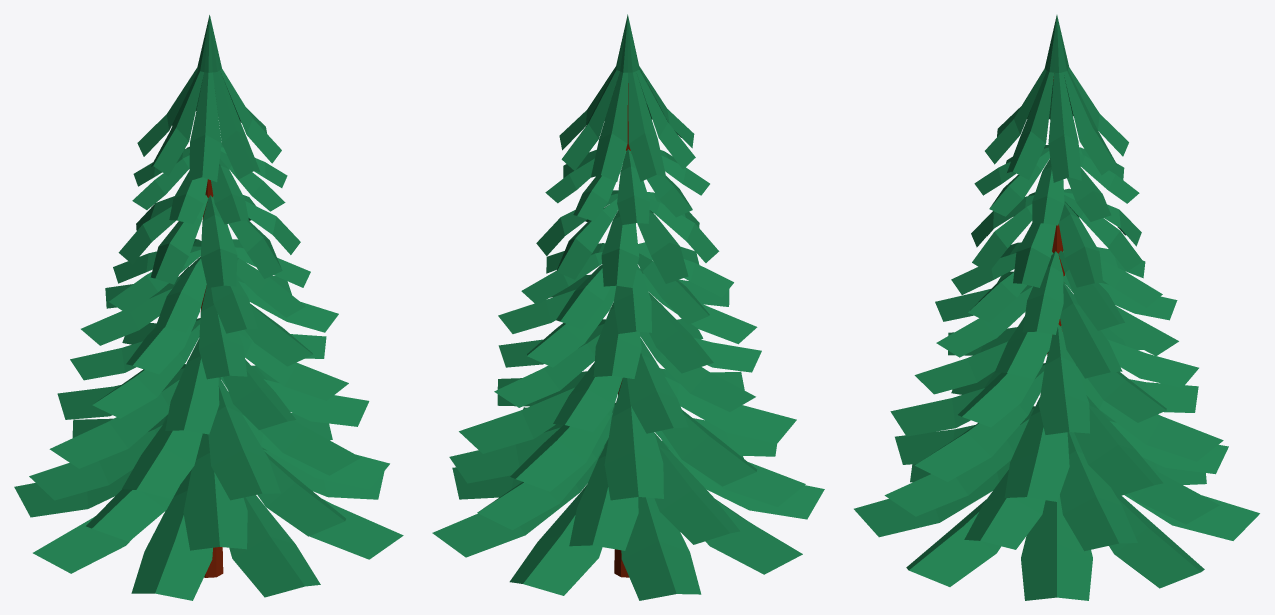
The model's file is Fir_tree_Folhas_Verde_Escuro.fbx.
3 renders of one model, left to right at view 1: azimuth 30°, elevation 25°; view 2: azimuth 150°, elevation 25°; view 3: azimuth 270°, elevation 25°, orthographic.
Parts seen in each view (by area): view 1: Fir_tree_Folhas_Verde_Escuro; view 2: Fir_tree_Folhas_Verde_Escuro; view 3: Fir_tree_Folhas_Verde_Escuro.
Part boxes in pixels (box(x1,y1,x2,y2)): Fir_tree_Folhas_Verde_Escuro: box(14, 15, 403, 600); Fir_tree_Folhas_Verde_Escuro: box(432, 14, 824, 600); Fir_tree_Folhas_Verde_Escuro: box(854, 15, 1259, 600).
Bounding box in the file's own units: 377 × 571 × 377.
